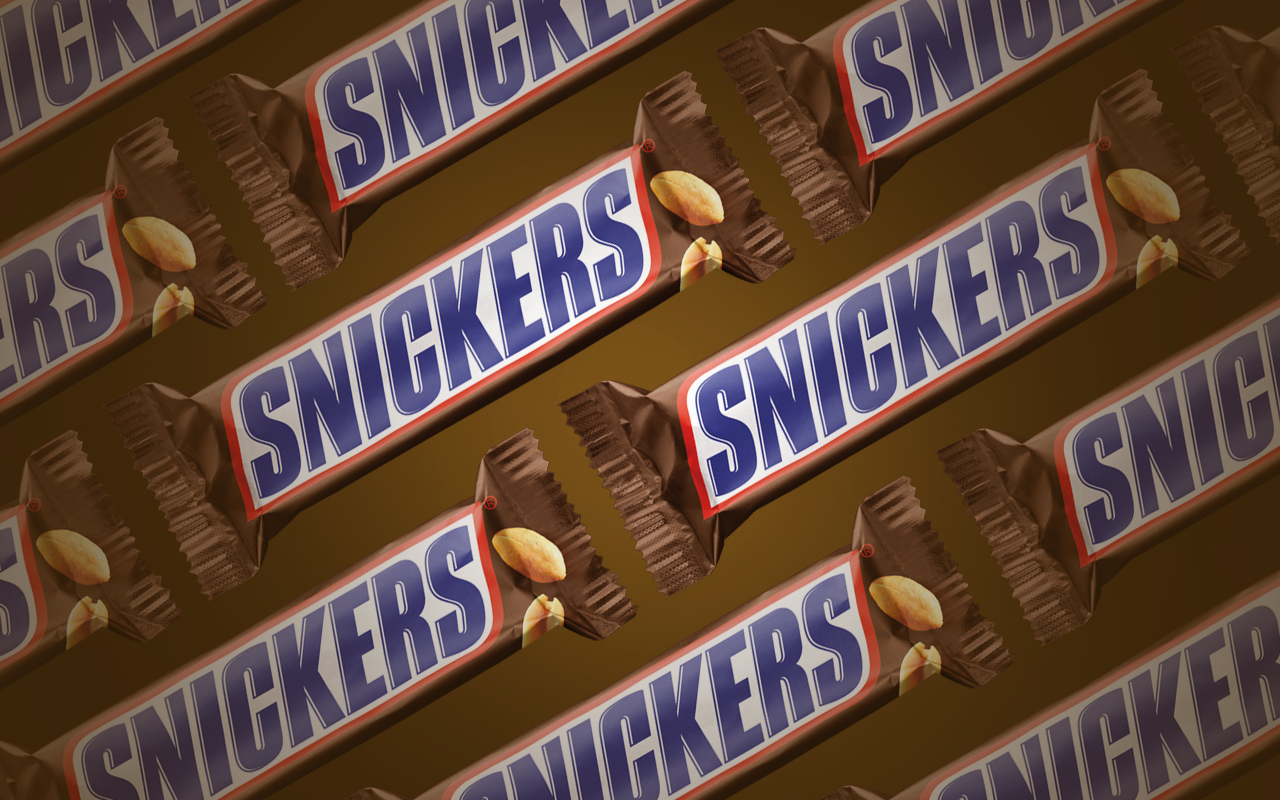snickers: (694, 164, 1100, 503), (694, 164, 1100, 498), (701, 164, 1100, 503), (239, 165, 641, 501), (239, 165, 641, 499), (243, 165, 641, 501), (81, 517, 485, 798), (81, 517, 481, 798), (81, 524, 485, 798), (457, 559, 858, 797), (457, 570, 864, 797), (457, 570, 858, 797), (320, 0, 681, 193), (320, 0, 681, 188), (332, 0, 681, 193), (939, 599, 1277, 798), (1068, 313, 1279, 549), (847, 0, 1138, 148), (864, 0, 1138, 148), (1, 1, 245, 141), (1, 210, 115, 393)
